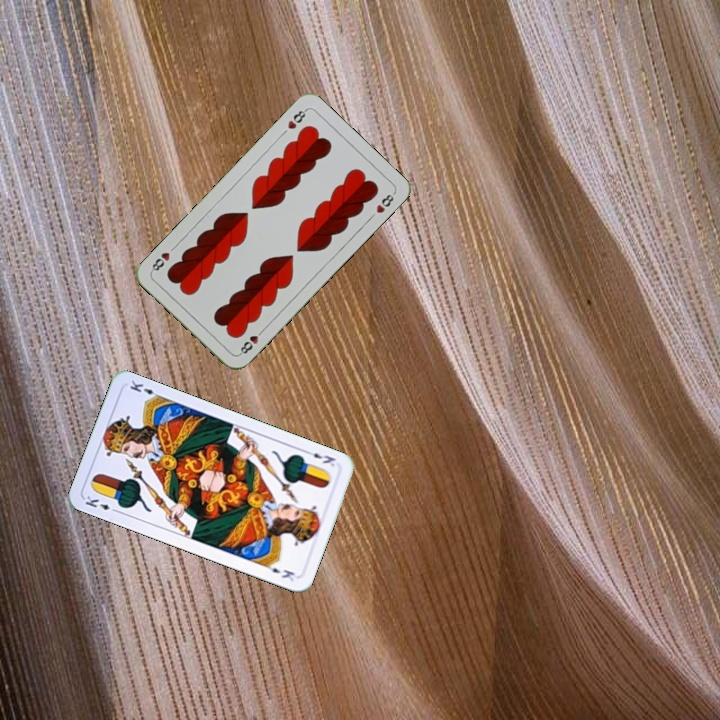EK: (81, 492, 121, 515), (301, 446, 338, 469)
H8: (235, 325, 267, 358), (283, 105, 309, 132)
